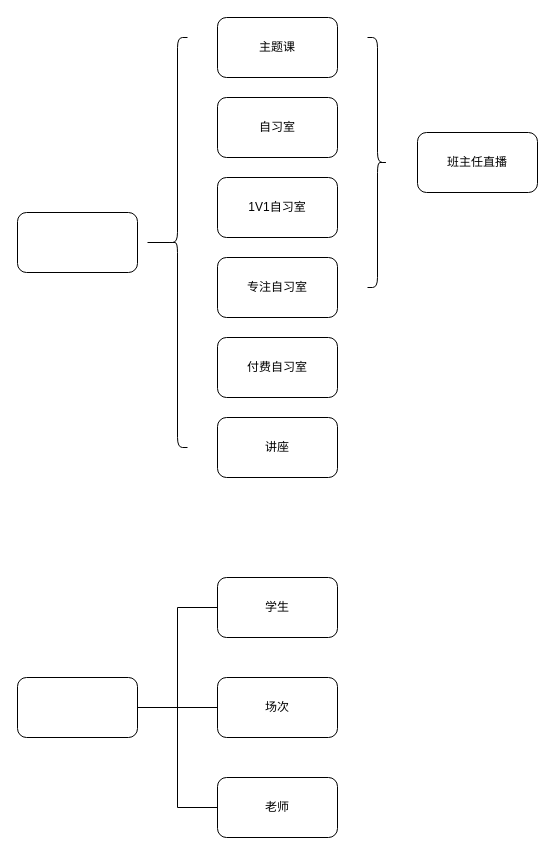
This 555x855 diagram has some shape labels left out. Each missing label, with the box of its shape:
直播: (16, 212, 138, 272)
角色: (16, 676, 138, 738)
